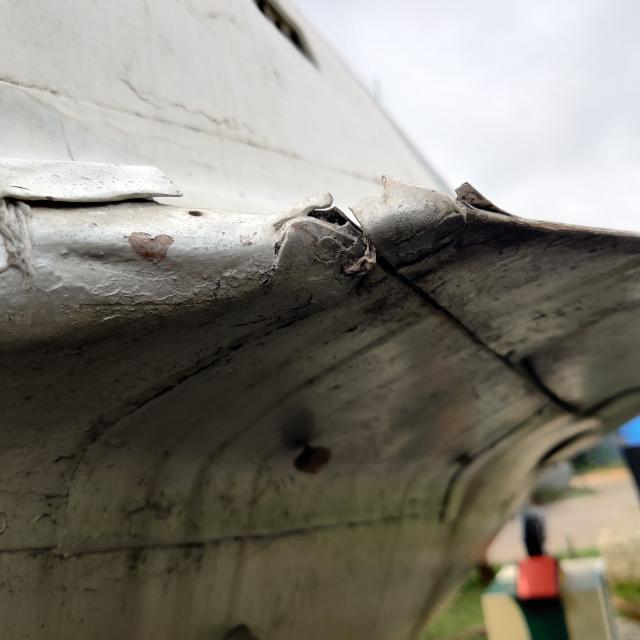Crack: (284, 198, 376, 269), (456, 182, 513, 216)
